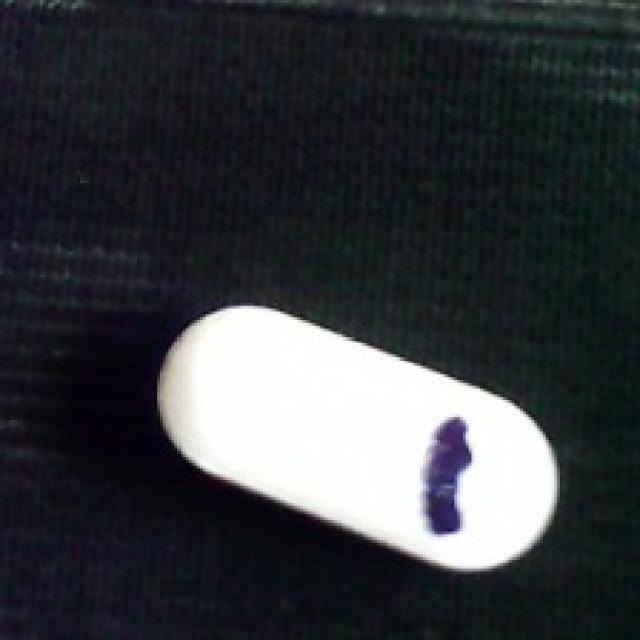defected: (151, 306, 566, 571)
